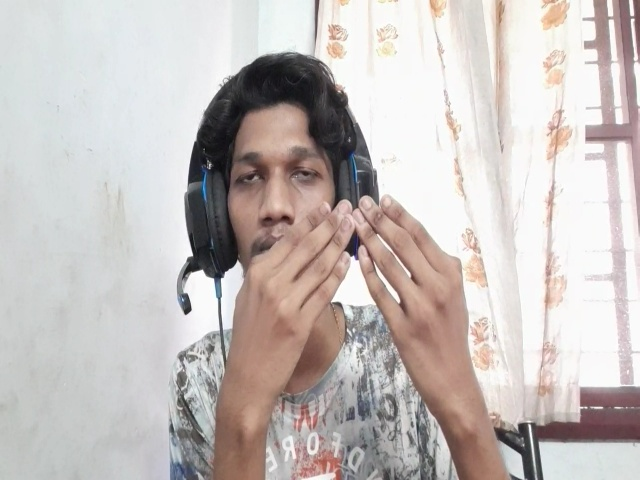ThankYou: (232, 194, 470, 347)
